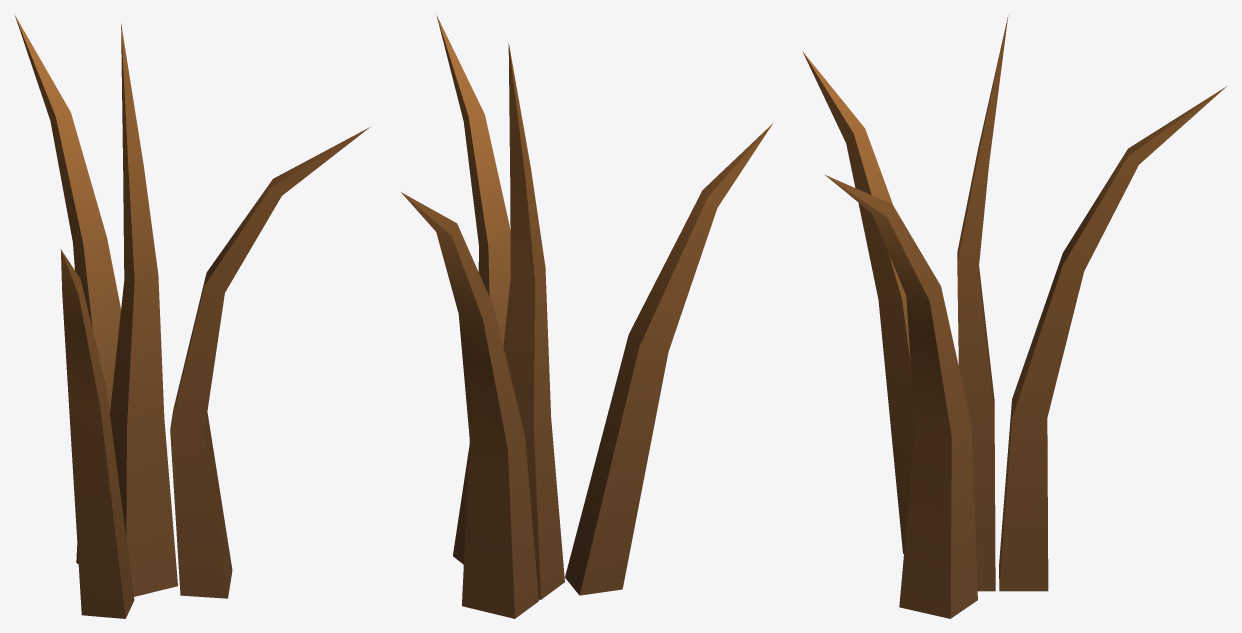
Rendered from Autumn_Grass_04.glb.
3 renders of one model, left to right at view 1: azimuth 30°, elevation 25°; view 2: azimuth 150°, elevation 25°; view 3: azimuth 270°, elevation 25°, orthographic. The views are drawn at different scales.
Visible parts, largest first — view 1: Autumn_Grass_04_LOD0; view 2: Autumn_Grass_04_LOD0; view 3: Autumn_Grass_04_LOD0.
Part boxes in pixels (x1,y1,x2,y2): Autumn_Grass_04_LOD0: (15, 15, 369, 618); Autumn_Grass_04_LOD0: (401, 15, 772, 618); Autumn_Grass_04_LOD0: (802, 15, 1226, 618).
Size of what is drawn, in the model's own units: 0.2365 by 0.3869 by 0.2637.
1 material, 1 textured.
